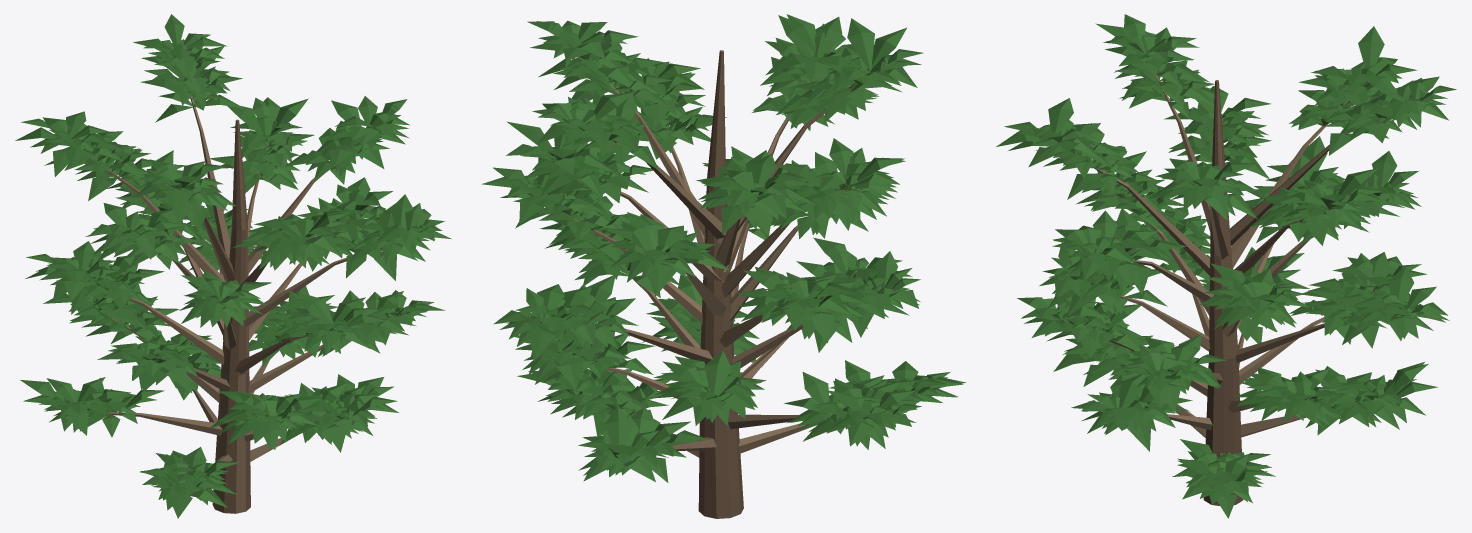
Rendered from coast_oak_lod0.glb.
3 renders of one model, left to right at view 1: azimuth 30°, elevation 25°; view 2: azimuth 150°, elevation 25°; view 3: azimuth 270°, elevation 25°, orthographic. The views are drawn at different scales.
Parts seen in each view (by area): view 1: coast_oak; view 2: coast_oak; view 3: coast_oak.
Boxes of the visible parts, x1=… form: coast_oak: x1=15, y1=14, x2=451, y2=518; coast_oak: x1=481, y1=14, x2=965, y2=518; coast_oak: x1=996, y1=14, x2=1456, y2=518.
Size of the model in its own units: 4.21 by 4.36 by 4.21.
